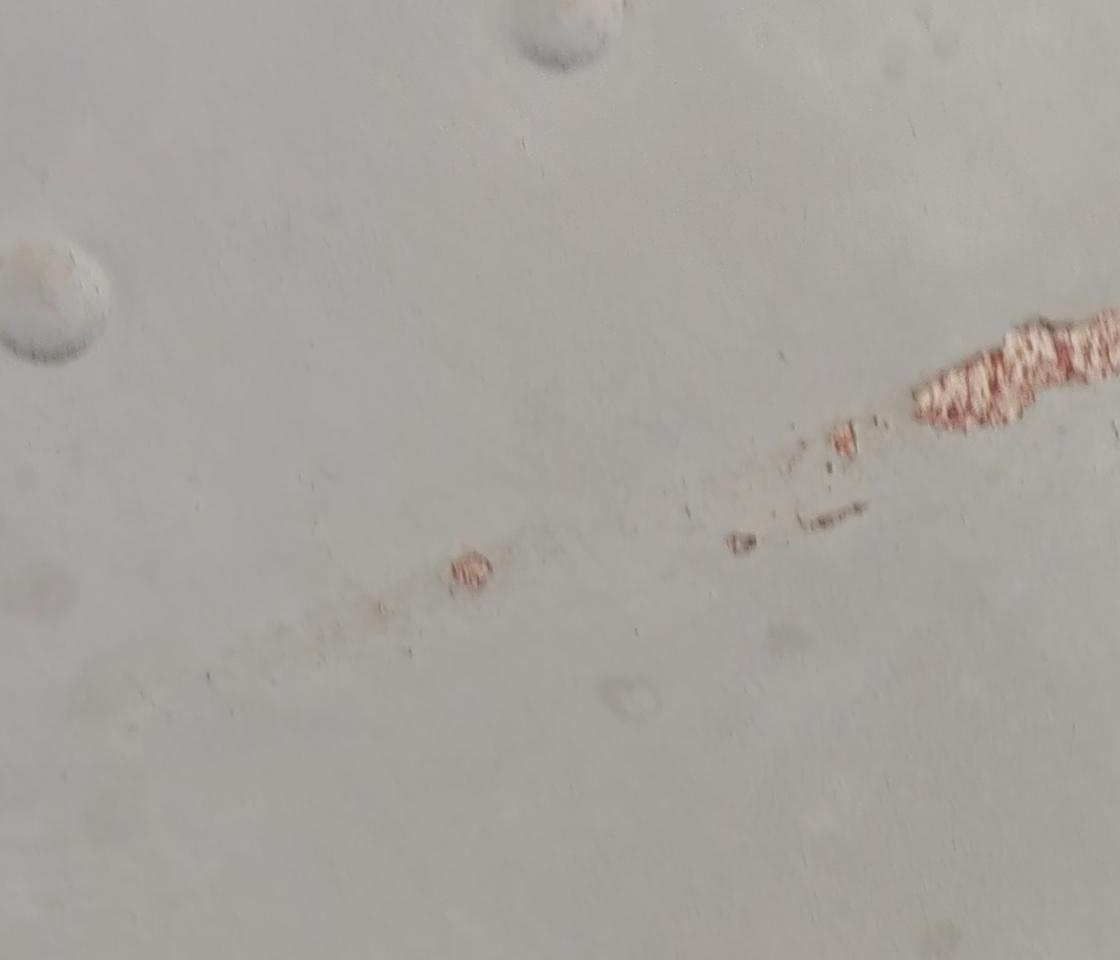rust: (910, 310, 1120, 431), (443, 542, 498, 596), (825, 414, 864, 470)
